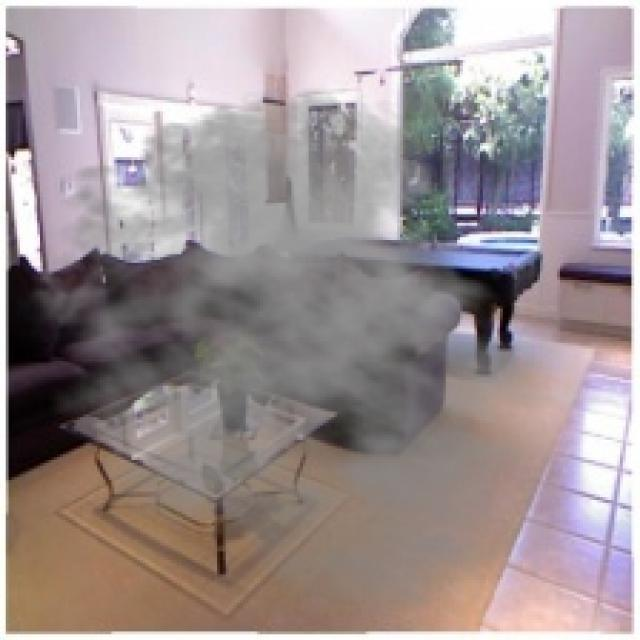Smoke: (8, 80, 574, 617)
